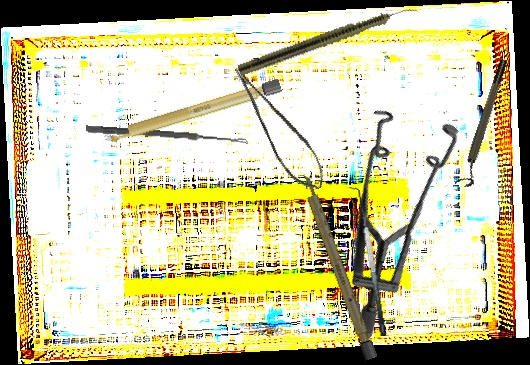Fixation Ring: (454, 57, 516, 190)
Handpiece: (237, 0, 419, 79)
Micro Scissor: (230, 53, 332, 200)
Scalpel Handle: (298, 172, 378, 361), (102, 77, 283, 146)
Spatula Surgical: (346, 184, 388, 339)
Speculum: (257, 78, 521, 340)
Surgical Spoon: (85, 125, 249, 145)
